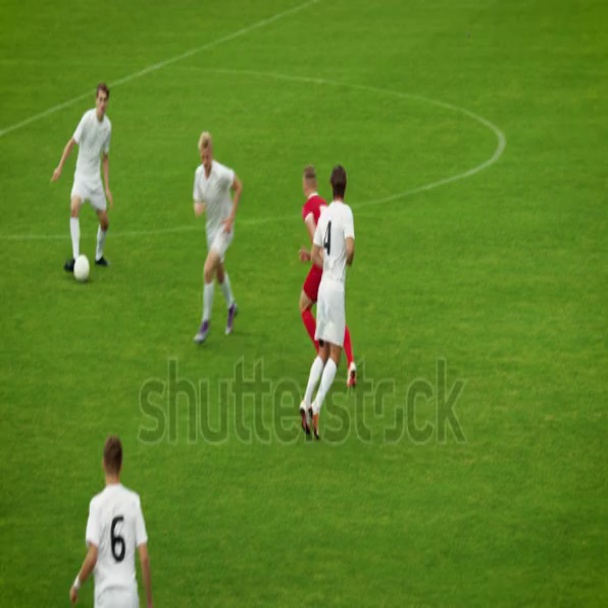ball: (74, 253, 92, 283)
